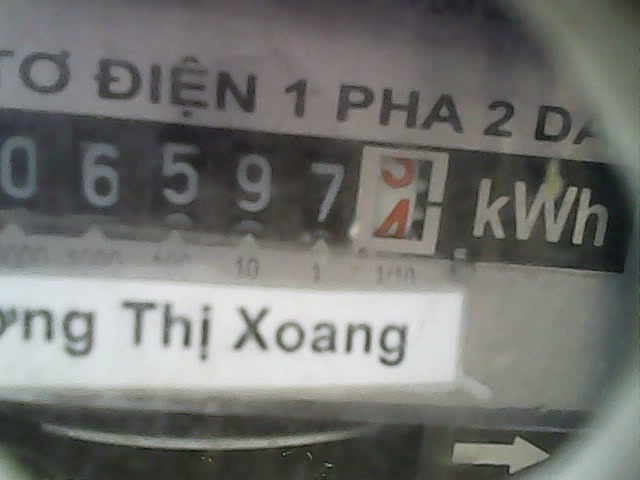phy_plate: (1, 105, 457, 272)
